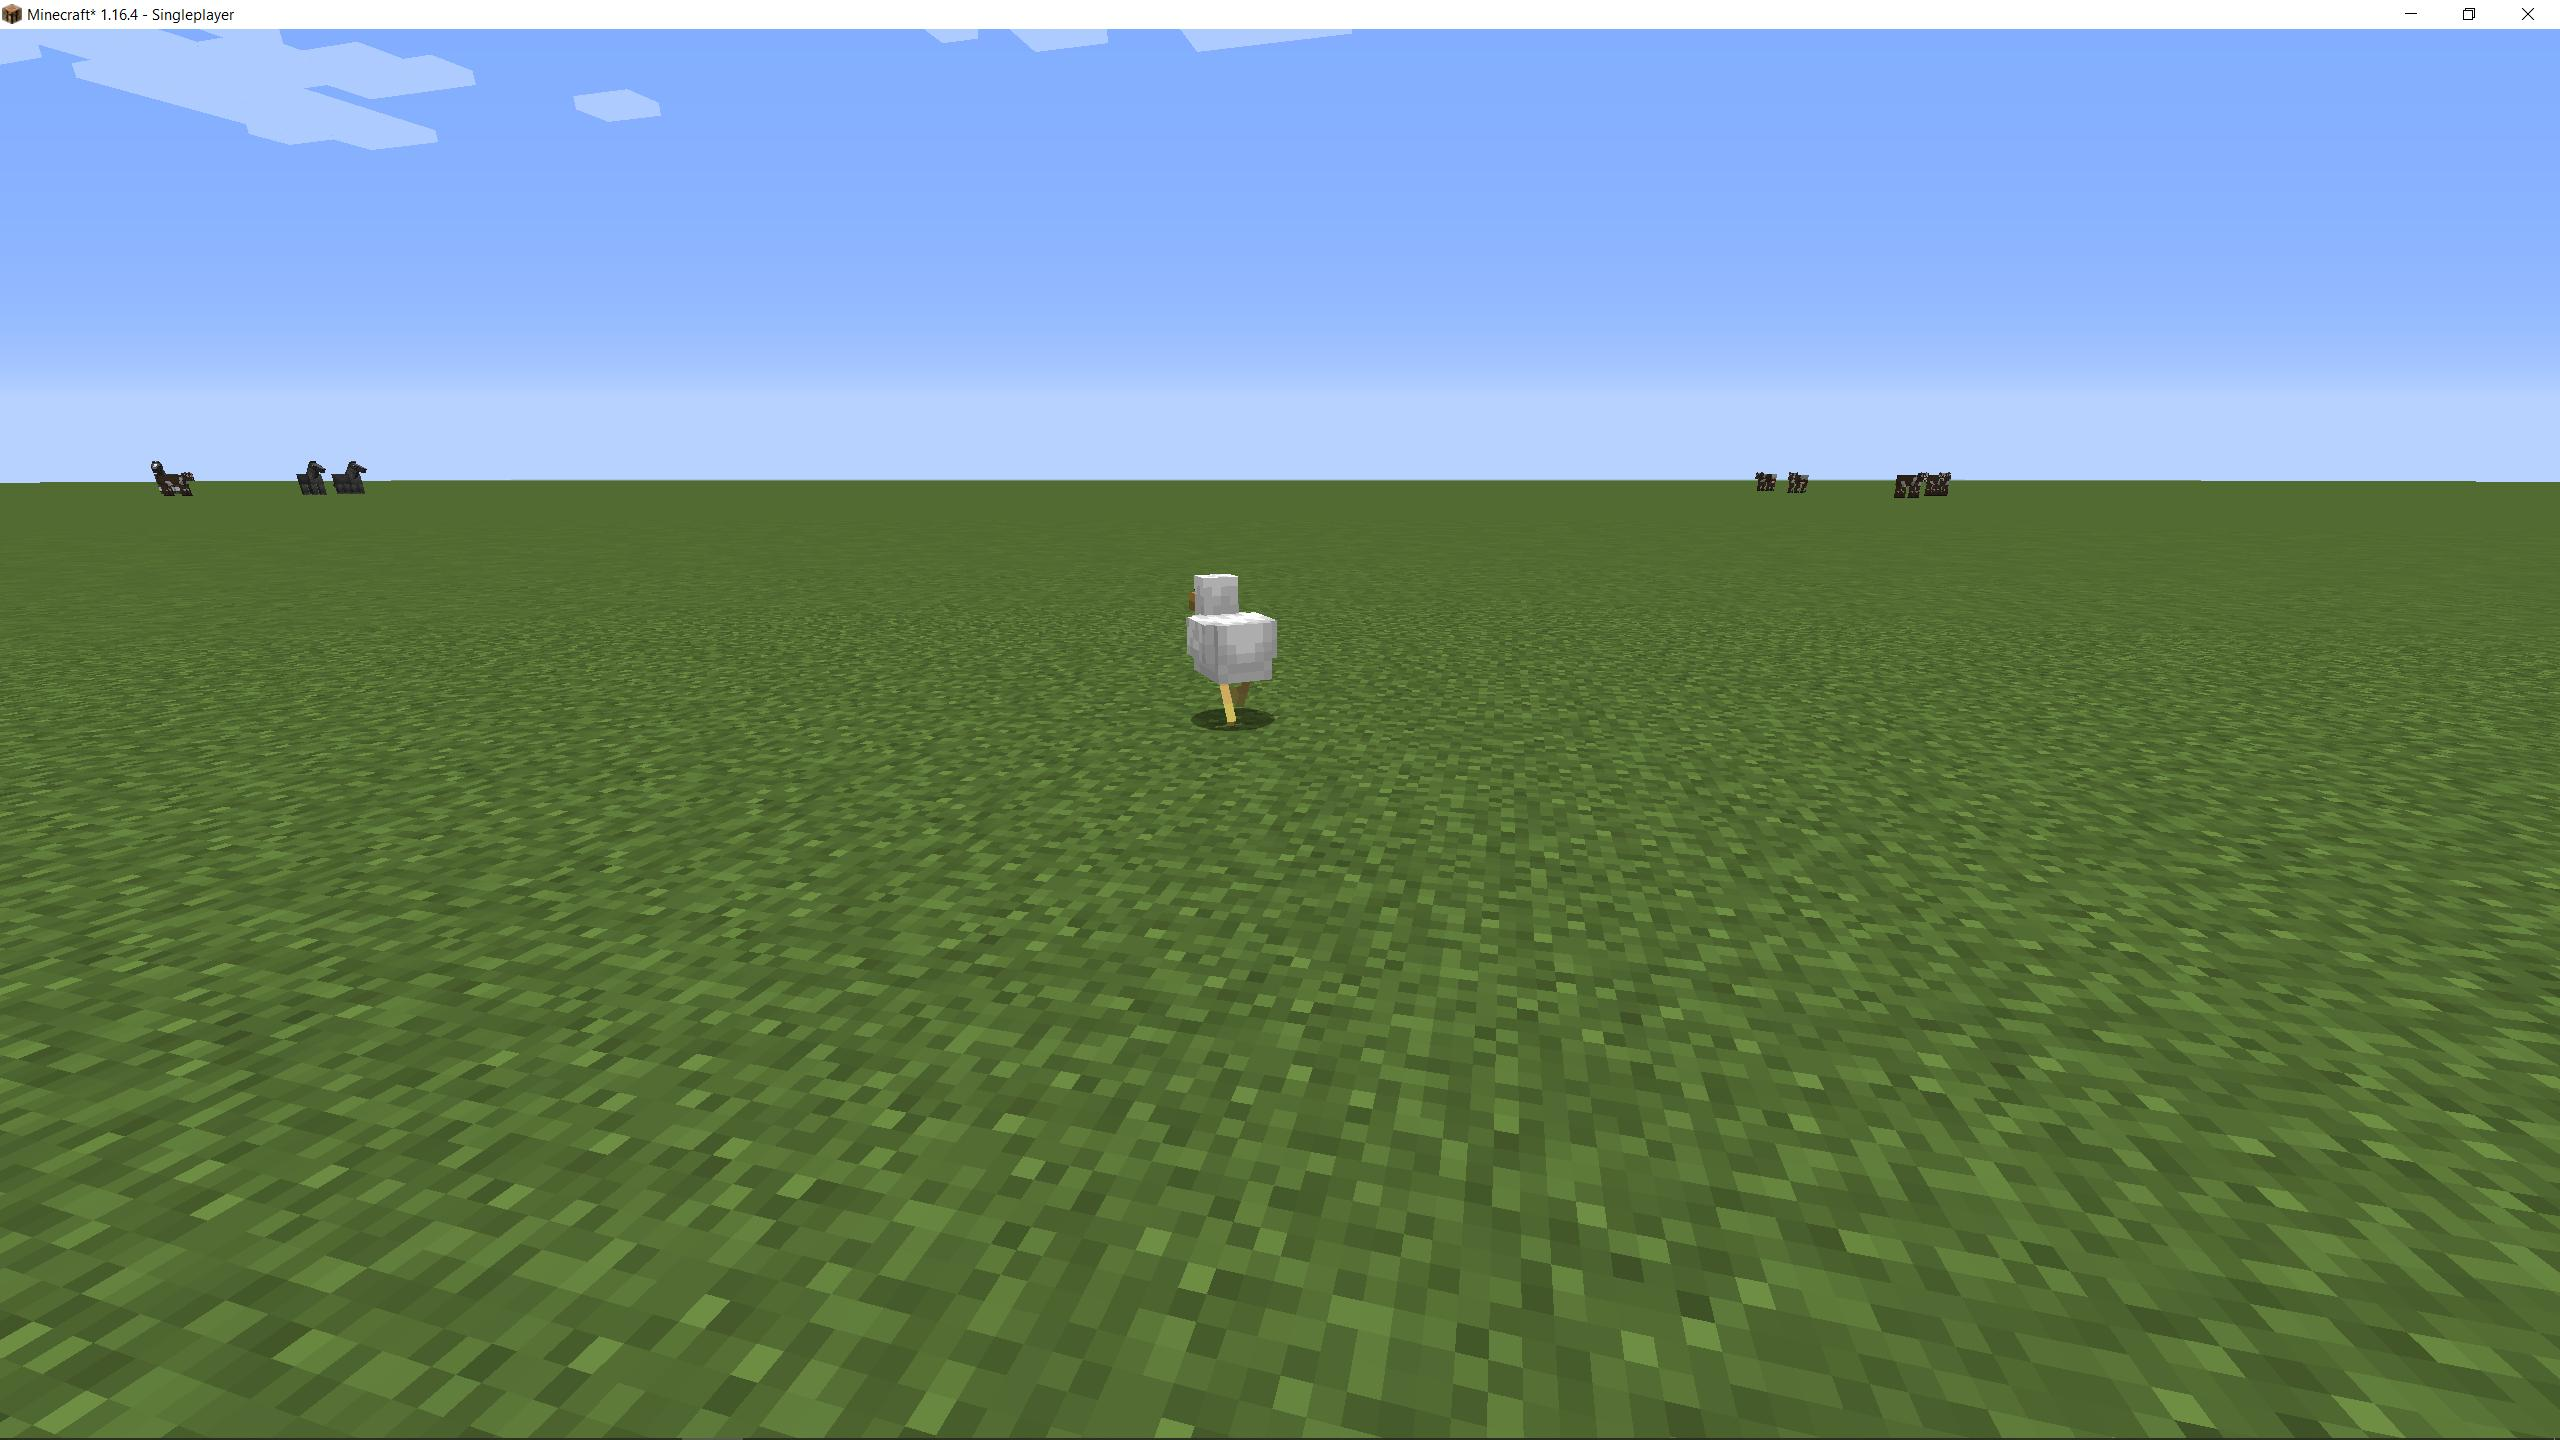chicken: (1182, 566, 1284, 737)
